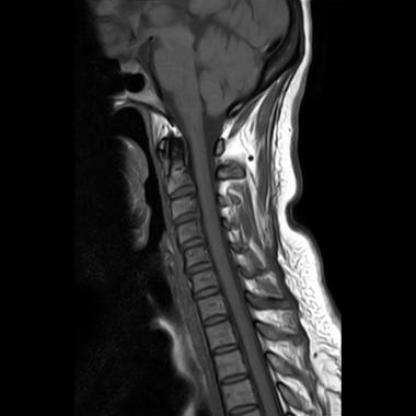Disc Bulgerotation: (185, 257, 214, 275)
